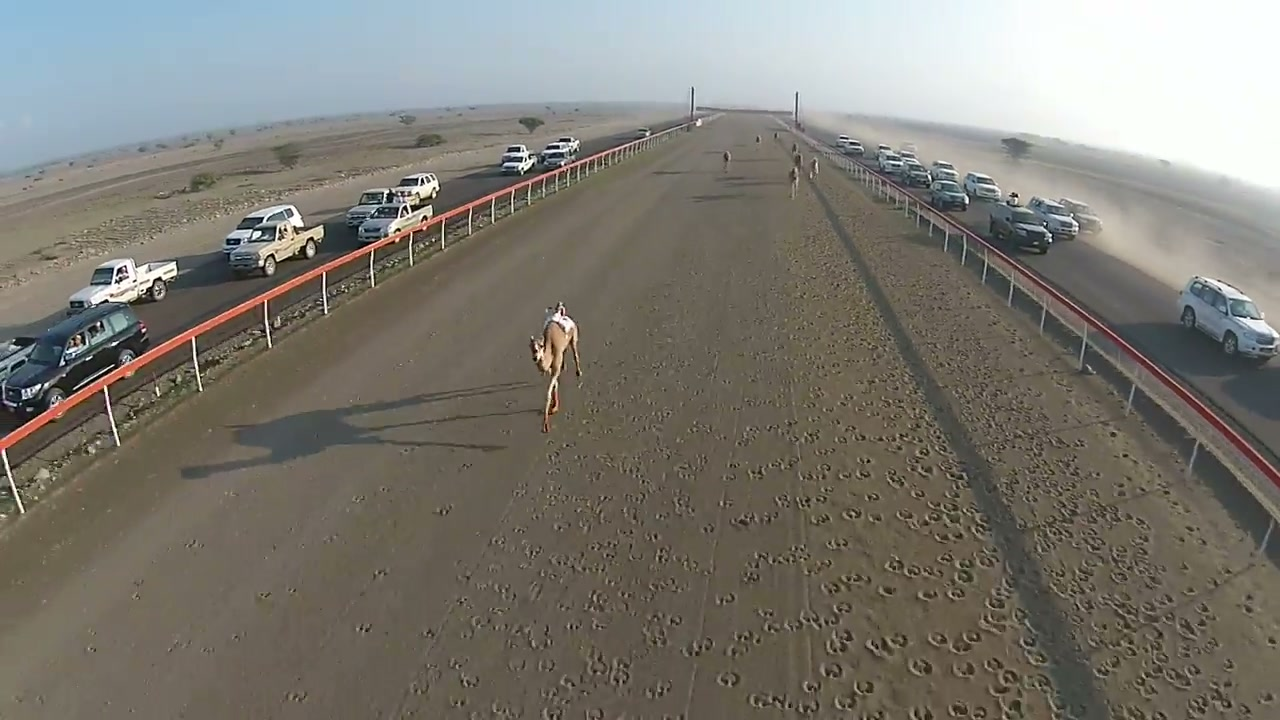animal_foot_print: (412, 175, 1279, 719), (783, 190, 1279, 717)
